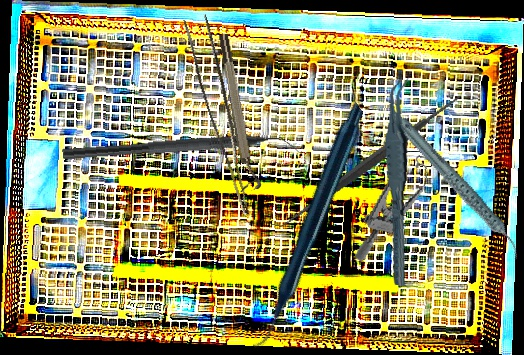Chopper: (62, 127, 303, 177)
Fixation Ring: (215, 32, 263, 192)
Handpiece: (171, 100, 440, 350), (385, 88, 524, 281)
Spatula Surgical: (267, 58, 473, 265)
Speculum: (354, 133, 436, 273)
Tissue Forceps: (177, 12, 272, 216), (368, 76, 429, 286)
